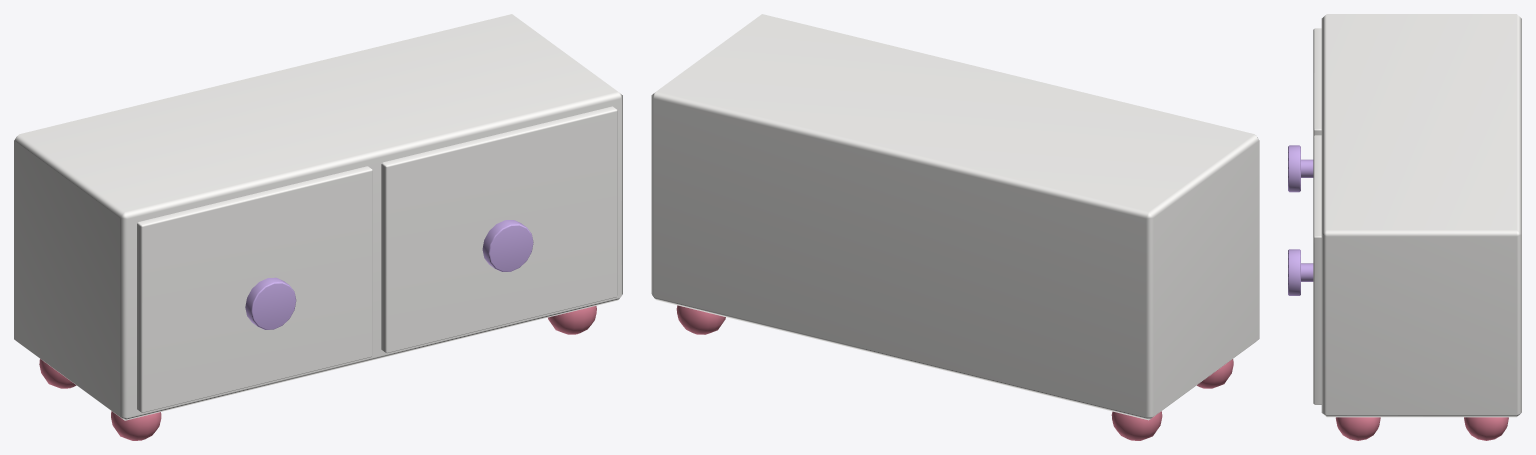
File: Cupboard_1.glb
3 renders of one model, left to right at view 1: azimuth 30°, elevation 25°; view 2: azimuth 150°, elevation 25°; view 3: azimuth 270°, elevation 25°, orthographic. The views are drawn at different scales.
Parts seen in each view (by area): view 1: Cupboard_1; view 2: Cupboard_1; view 3: Cupboard_1.
Part boxes in pixels (x1,y1,x2,y2): Cupboard_1: (14,14,622,440); Cupboard_1: (651,14,1259,440); Cupboard_1: (1288,14,1521,440).
Size of the model in its own units: 1.94 by 0.9094 by 0.8711.
Materials: 1 (1 with a texture image).
